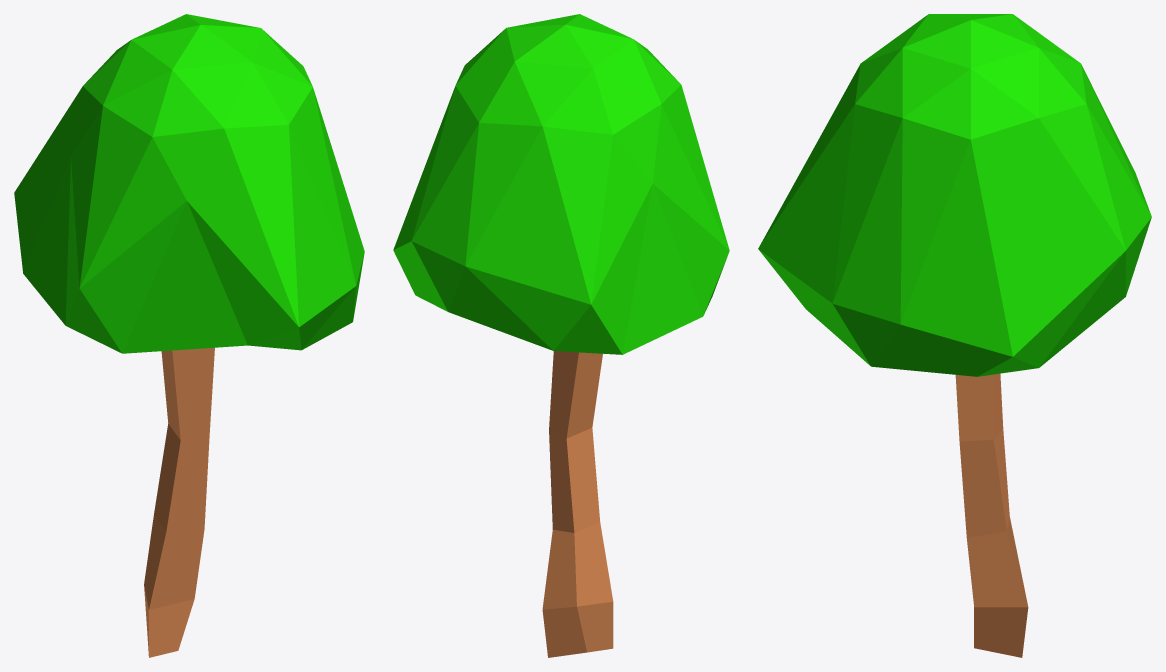
Rendered from Tree.fbx.
The picture shows the model from 3 angles, left to right: view 1: azimuth 30°, elevation 25°; view 2: azimuth 150°, elevation 25°; view 3: azimuth 270°, elevation 25°; orthographic projection. The views are drawn at different scales.
Visible parts, largest first — view 1: Tree Leaf Bush, Trunk; view 2: Tree Leaf Bush, Trunk; view 3: Tree Leaf Bush, Trunk.
Part boxes in pixels (<box>): Tree Leaf Bush: <box>14,14,364,353</box>; Trunk: <box>144,347,214,657</box>; Tree Leaf Bush: <box>393,14,729,354</box>; Trunk: <box>542,351,613,657</box>; Tree Leaf Bush: <box>758,14,1151,376</box>; Trunk: <box>955,373,1028,657</box>.
Size of the model in its own units: 1309 by 2612 by 1453.
